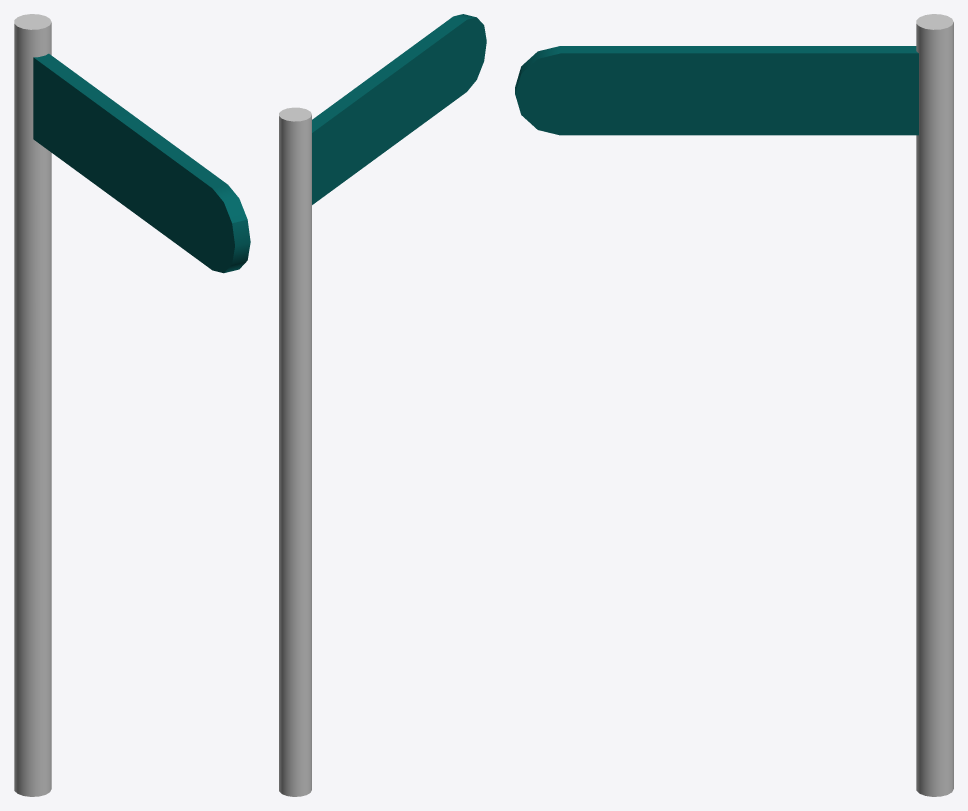
Rendered from RoadSign_01.fbx.
The picture shows the model from 3 angles, left to right: view 1: azimuth 30°, elevation 25°; view 2: azimuth 150°, elevation 25°; view 3: azimuth 270°, elevation 25°; orthographic projection. The views are drawn at different scales.
Visible parts, largest first — view 1: pCube157; view 2: pCube157; view 3: pCube157.
Boxes of the visible parts, x1,y1,x2,y2 form: pCube157: [14, 14, 250, 796]; pCube157: [279, 14, 486, 796]; pCube157: [515, 14, 953, 796].
Size of the model in its own units: 0.097 by 2.19 by 1.13.
